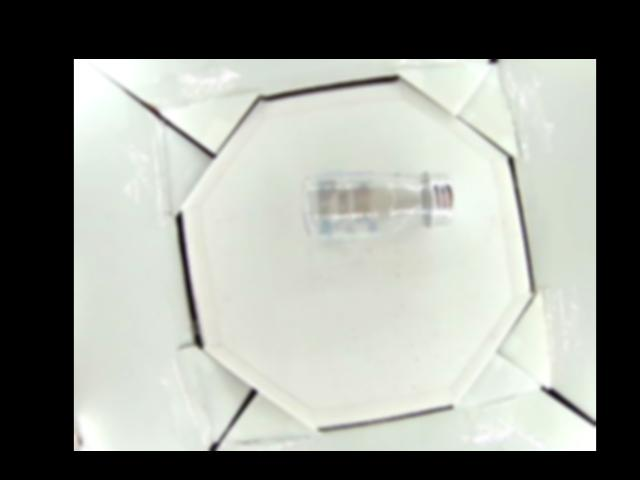Bottle: (299, 171, 455, 241)
